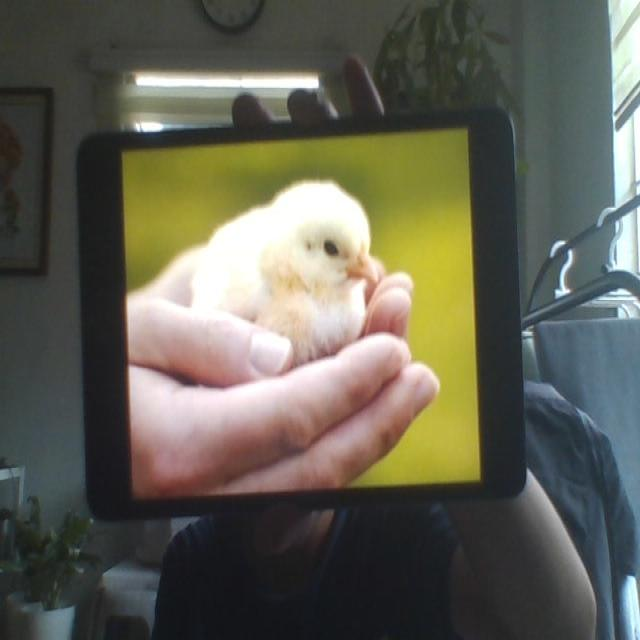Healthy: (188, 182, 380, 365)
